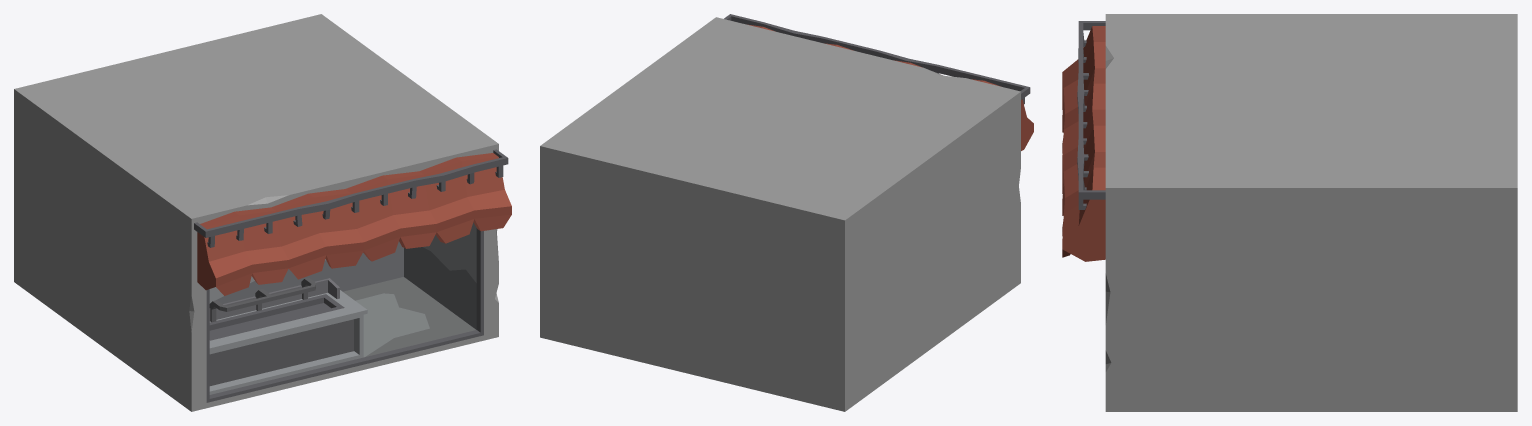
The model's file is city_SM_Bld_Section_Door_02.gltf.
The picture shows the model from 3 angles, left to right: view 1: azimuth 30°, elevation 25°; view 2: azimuth 150°, elevation 25°; view 3: azimuth 270°, elevation 25°; orthographic projection. The views are drawn at different scales.
Visible parts, largest first — view 1: SM_Bld_Section_Door_02; view 2: SM_Bld_Section_Door_02; view 3: SM_Bld_Section_Door_02.
Part boxes in pixels (<box>): SM_Bld_Section_Door_02: <box>14,14,511,411</box>; SM_Bld_Section_Door_02: <box>540,14,1033,411</box>; SM_Bld_Section_Door_02: <box>1062,14,1517,411</box>.
Bounding box in the file's own units: 5 × 3 × 5.53.
1 material, 1 textured.
